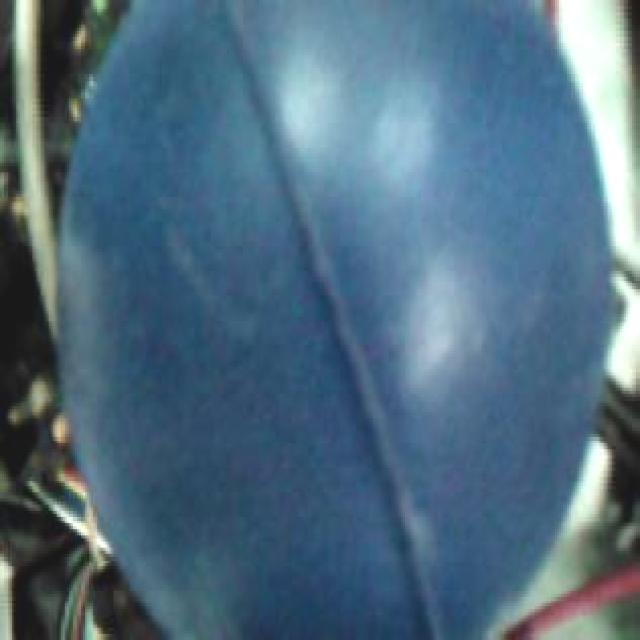BallPurple: (54, 0, 610, 640)
